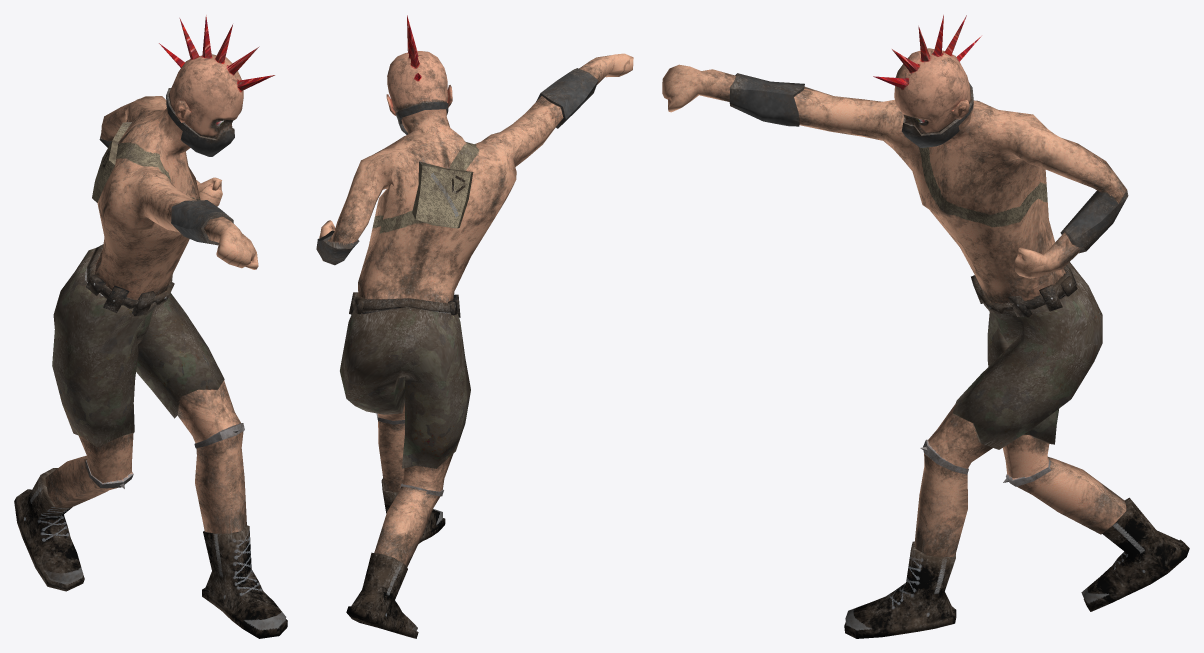
The model's file is Anim_ataque_d1_npc2.0022.obj.
The picture shows the model from 3 angles, left to right: view 1: azimuth 30°, elevation 25°; view 2: azimuth 150°, elevation 25°; view 3: azimuth 270°, elevation 25°; orthographic projection. The views are drawn at different scales.
Visible parts, largest first — view 1: polySurface1; view 2: polySurface1; view 3: polySurface1.
Part boxes in pixels (left/top/right/bottom): polySurface1: left=14, top=15, right=287, bottom=638; polySurface1: left=316, top=15, right=633, bottom=638; polySurface1: left=662, top=15, right=1189, bottom=638.
Size of the model in its own units: 2.78 by 9.36 by 7.15.
Materials: 2 (2 with a texture image).
